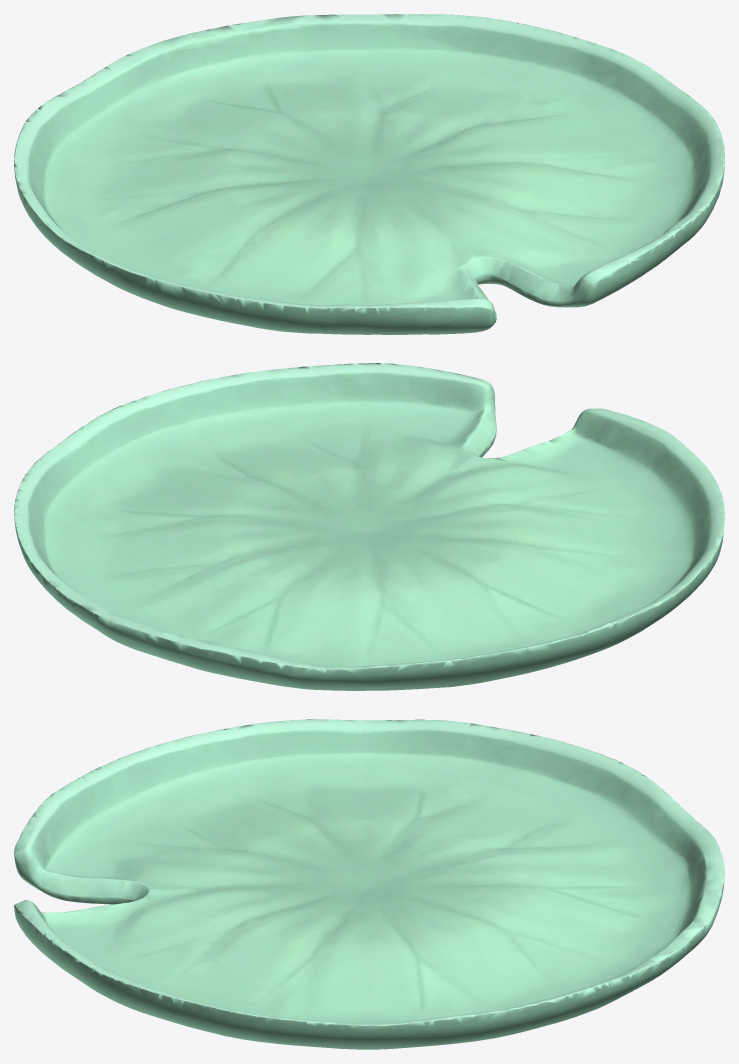
The model's file is lilypad.glb.
3 views of the same model, one above another, from view 1: azimuth 30°, elevation 25°; view 2: azimuth 150°, elevation 25°; view 3: azimuth 270°, elevation 25° (orthographic).
Bounding box in the file's own units: 1.9 × 0.162 × 1.87.
Materials: 1 (1 with a texture image).
